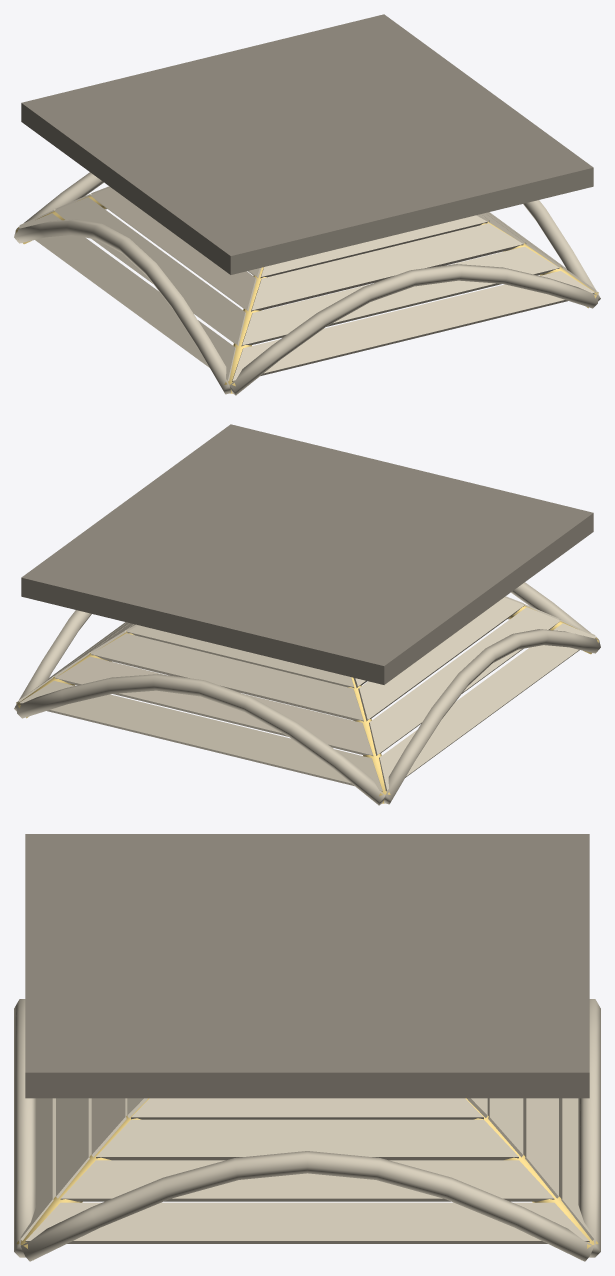
File: ceil_bb_vault.glb
The picture shows the model from 3 angles, top to bottom: view 1: azimuth 30°, elevation 25°; view 2: azimuth 150°, elevation 25°; view 3: azimuth 270°, elevation 25°; orthographic projection. The views are drawn at different scales.
Parts seen in each view (by area): view 1: ceil_bb_vault; view 2: ceil_bb_vault; view 3: ceil_bb_vault.
Boxes of the visible parts, x1,y1,x2,y2 form: ceil_bb_vault: (14, 14, 600, 395); ceil_bb_vault: (14, 424, 600, 805); ceil_bb_vault: (14, 834, 600, 1261).
Size of the model in its own units: 4.16 by 1.47 by 4.16.
